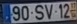0: (20, 4, 30, 21)
1: (57, 3, 63, 19)
2: (63, 2, 70, 19)
9: (11, 4, 21, 22)
S: (33, 3, 44, 21)
V: (43, 3, 54, 20)
